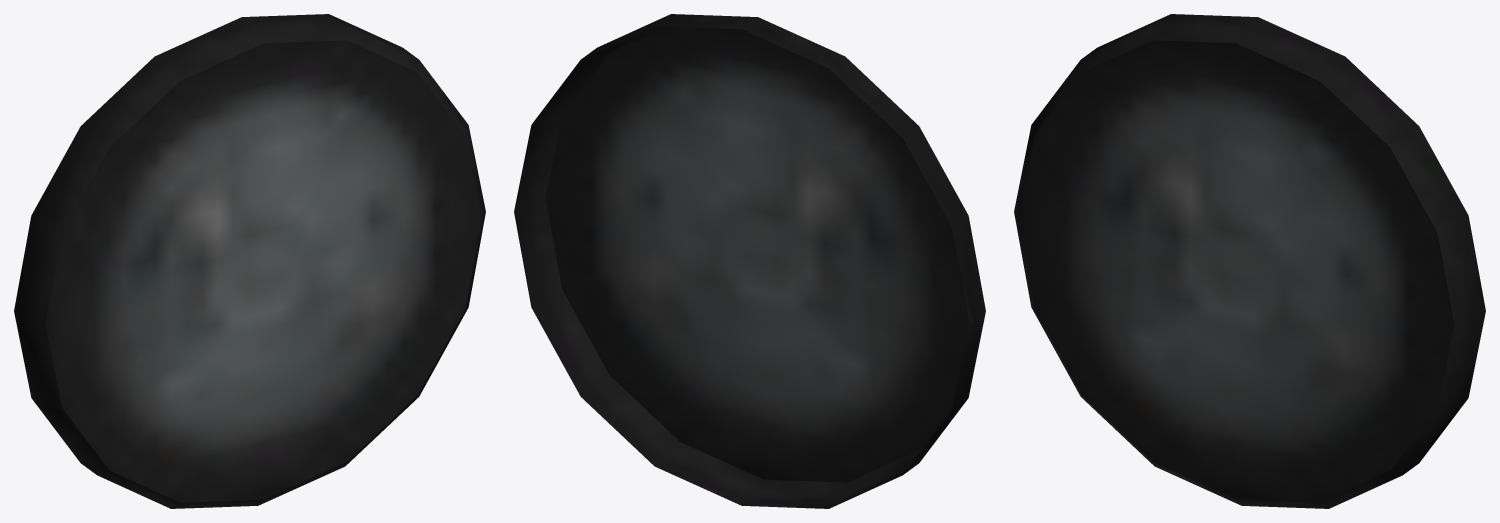
File: 02_07_power_pump_large_lamp.dae
3 renders of one model, left to right at view 1: azimuth 30°, elevation 25°; view 2: azimuth 150°, elevation 25°; view 3: azimuth 330°, elevation 25°, orthographic.
Visible parts, largest first — view 1: polySurface270; view 2: polySurface270; view 3: polySurface270.
Boxes of the visible parts, left/top/right/bottom form: polySurface270: left=14, top=14, right=485, bottom=508; polySurface270: left=514, top=14, right=985, bottom=508; polySurface270: left=1014, top=14, right=1485, bottom=508.
Bounding box in the file's own units: 0.056 × 0.056 × 0.00468.
